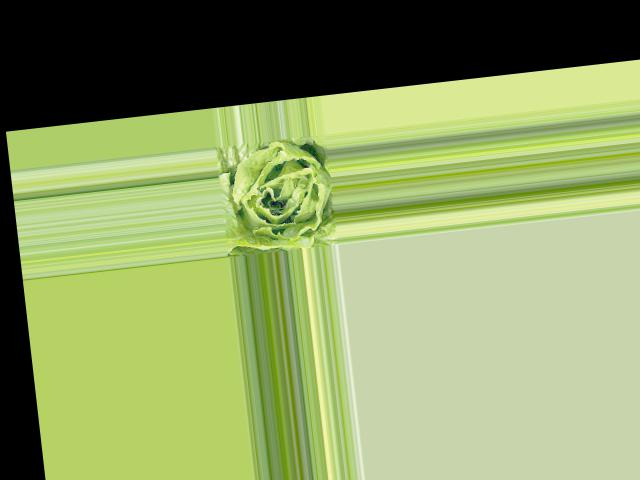lettuce: (214, 135, 336, 256)
